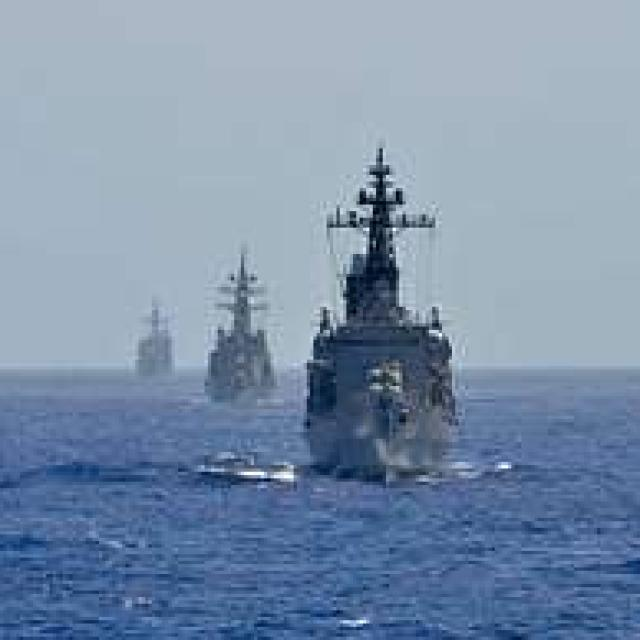navalvessels: (282, 158, 487, 467), (183, 238, 272, 416), (127, 294, 170, 384)
